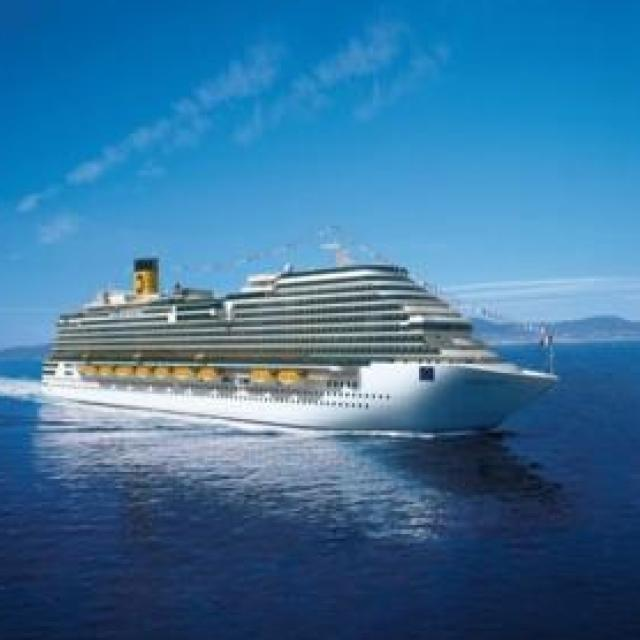passenger ship: (48, 221, 508, 432)
